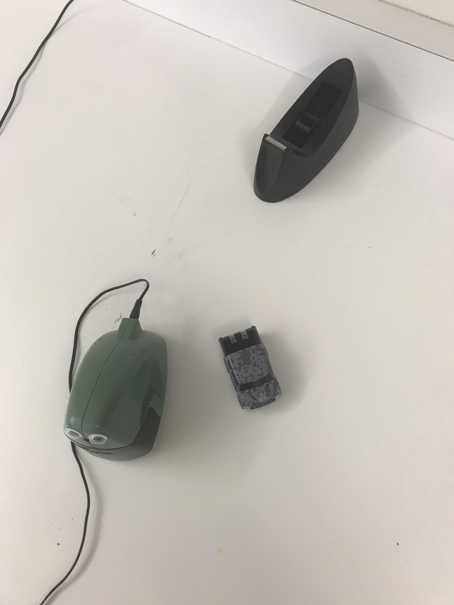MXT: (216, 325, 283, 410)
